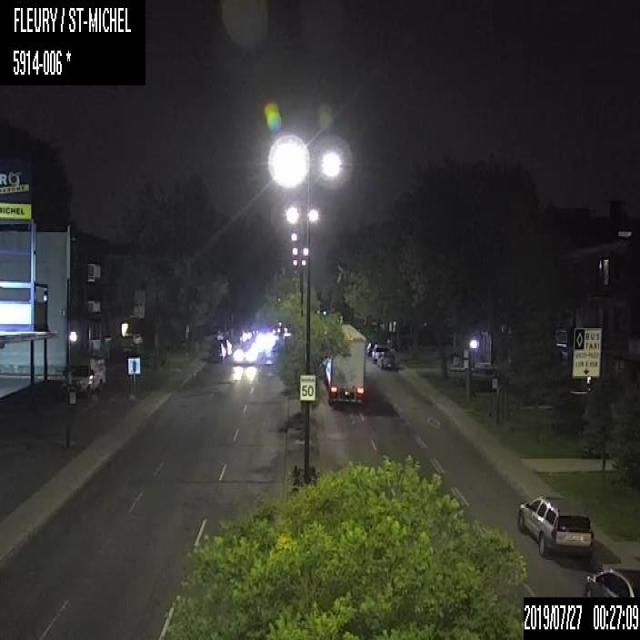vehicle: (516, 493, 594, 556), (322, 323, 366, 405), (579, 562, 639, 596), (62, 356, 109, 399), (207, 338, 226, 361), (120, 332, 143, 348), (376, 350, 394, 370), (371, 343, 388, 362), (218, 338, 231, 355), (203, 329, 223, 340), (366, 340, 377, 360)
